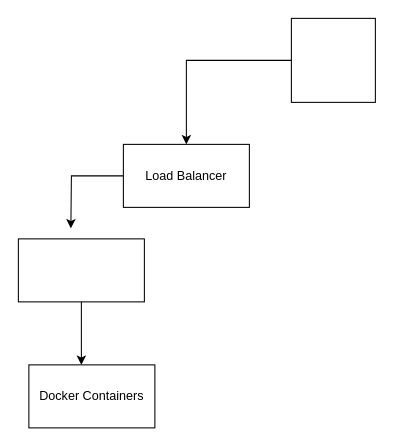
The diagram is 394 pixels wide and 446 high, and some of its shapes have lost their labels. Here are the shapes that lost their labels. From the top down, the centre of each, then its label:
the point at 332,59: Amazon EKS
the point at 80,270: Flask App Docker
